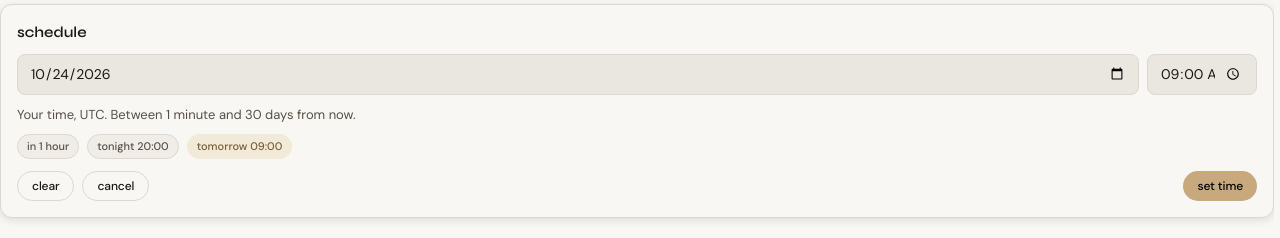
Test: SchedulePicker › replaces the helper with the limit message and disables set time for a past date
In the date field named "date": (578, 74) x1=17 y1=54 x2=1139 y2=94, type "2020-01-01"
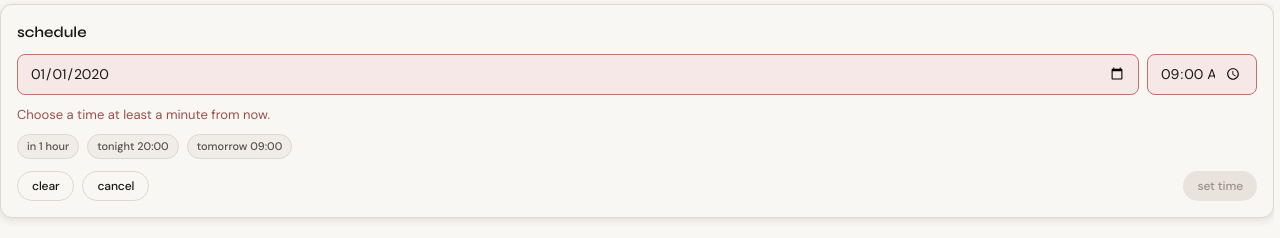
Expected: the message with test id "schedule-helper" reads "Choose a time at least a minute from now.", x1=17 y1=106 x2=270 y2=122
Expected: the button "set time" is disabled, x1=1183 y1=170 x2=1257 y2=200
